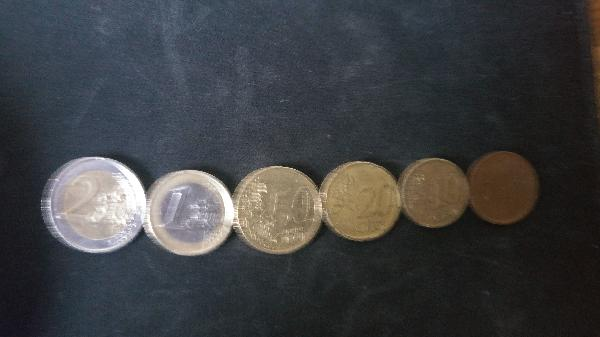Fifty Cent: (232, 164, 322, 252)
Five Cent: (466, 148, 543, 225)
One Euro: (147, 170, 232, 263)
Ten Cent: (401, 158, 467, 228)
Twenty Cent: (321, 160, 401, 240)
Two Euro: (42, 156, 144, 255)
